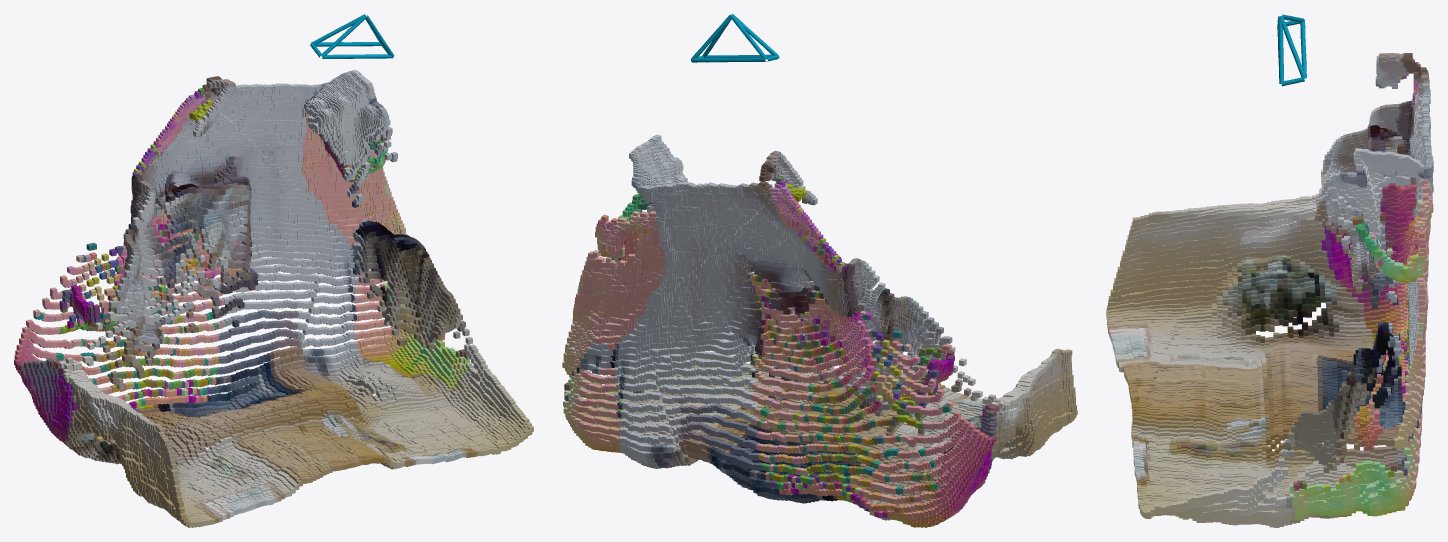
File: pred_0-compressed.glb
The picture shows the model from 3 angles, left to right: view 1: azimuth 30°, elevation 25°; view 2: azimuth 150°, elevation 25°; view 3: azimuth 270°, elevation 25°; orthographic projection. The views are drawn at different scales.
Bounding box in the file's own units: 4.52 × 4.34 × 2.77.
